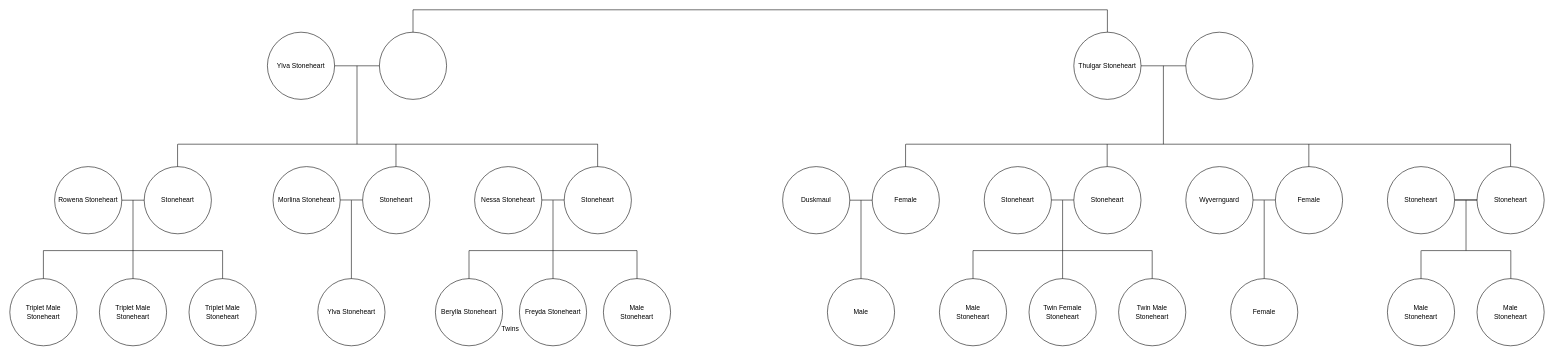
Image size: 1554x356. Some labels were removed from this diagram. Here are the shapes that lost their labels. From the top down, the centre of each, then its label:
At [413,65]: "Skolgek Stoneheart".
At [1219,65]: "Deldra Stoneheart".
